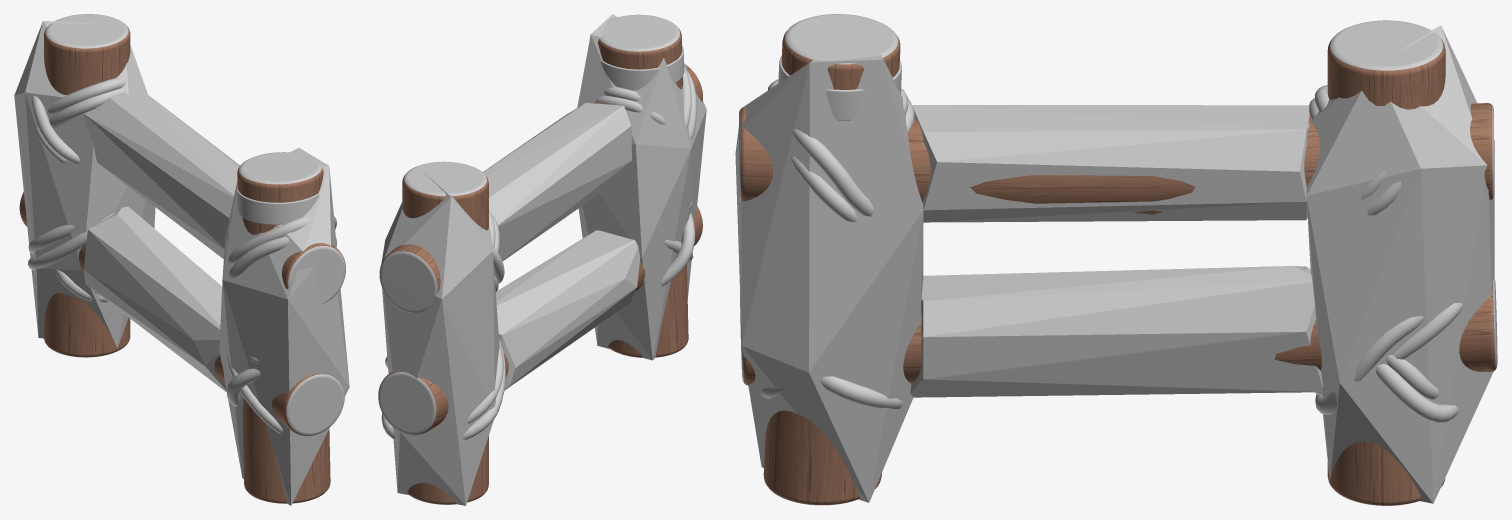
File: SM_WoodenFence_2m_02.fbx
The picture shows the model from 3 angles, left to right: view 1: azimuth 30°, elevation 25°; view 2: azimuth 150°, elevation 25°; view 3: azimuth 270°, elevation 25°; orthographic projection. The views are drawn at different scales.
Visible parts, largest first — view 1: SM_WoodenFence_2m_02_ConvexHulls, SM_WoodenFence_2m_02; view 2: SM_WoodenFence_2m_02_ConvexHulls, SM_WoodenFence_2m_02; view 3: SM_WoodenFence_2m_02_ConvexHulls, SM_WoodenFence_2m_02.
Part boxes in pixels (bbox=[...]): SM_WoodenFence_2m_02_ConvexHulls: bbox=[14, 21, 349, 505]; SM_WoodenFence_2m_02: bbox=[19, 14, 345, 503]; SM_WoodenFence_2m_02_ConvexHulls: bbox=[381, 14, 706, 505]; SM_WoodenFence_2m_02: bbox=[378, 14, 702, 504]; SM_WoodenFence_2m_02_ConvexHulls: bbox=[735, 25, 1494, 503]; SM_WoodenFence_2m_02: bbox=[739, 14, 1497, 505].
Size of the model in its own units: 46.96 by 201 by 130.
4 materials, 1 textured.
